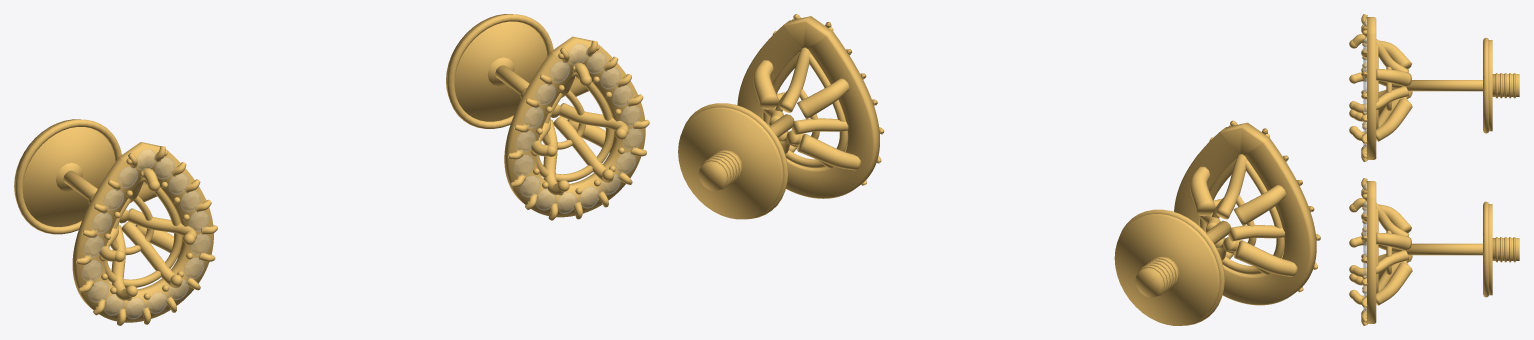
The model's file is Earring_PearCluster.glb.
The picture shows the model from 3 angles, left to right: view 1: azimuth 30°, elevation 25°; view 2: azimuth 150°, elevation 25°; view 3: azimuth 270°, elevation 25°; orthographic projection. The views are drawn at different scales.
Parts seen in each view (by area): view 1: Halo_Frame, Halo_Frame.001, Attach_Back.001, Attach_Back, Accent_Halo, Accent_Halo.001, Head_Center.001, Head_Center, Attach_Post, Attach_Post.001; view 2: Halo_Frame.001, Halo_Frame, Attach_Back, Attach_Back.001, Head_Center, Head_Center.001; view 3: Halo_Frame.001, Halo_Frame, Head_Center, Head_Center.001, Attach_Back, Attach_Back.001, Attach_Post, Attach_Post.001, Accent_Halo, Accent_Halo.001.
Part boxes in pixels (<box>): Halo_Frame: <box>504,36,649,220</box>; Halo_Frame.001: <box>72,142,217,325</box>; Attach_Back.001: <box>14,119,121,234</box>; Attach_Back: <box>446,14,553,128</box>; Accent_Halo: <box>513,44,642,213</box>; Accent_Halo.001: <box>82,149,210,318</box>; Head_Center.001: <box>99,167,196,300</box>; Head_Center: <box>531,62,628,195</box>; Attach_Post: <box>495,65,561,117</box>; Attach_Post.001: <box>63,170,129,223</box>; Halo_Frame.001: <box>1174,120,1320,305</box>; Halo_Frame: <box>737,14,884,198</box>; Attach_Back: <box>678,103,788,219</box>; Attach_Back.001: <box>1114,209,1224,325</box>; Head_Center: <box>762,47,848,168</box>; Head_Center.001: <box>1199,154,1284,274</box>; Halo_Frame.001: <box>1361,14,1412,161</box>; Halo_Frame: <box>1361,178,1412,325</box>; Head_Center: <box>1349,198,1409,304</box>; Head_Center.001: <box>1349,34,1408,140</box>; Attach_Back: <box>1483,201,1519,297</box>; Attach_Back.001: <box>1483,37,1519,133</box>; Attach_Post: <box>1402,243,1482,255</box>; Attach_Post.001: <box>1402,80,1482,91</box>; Accent_Halo: <box>1363,183,1366,312</box>; Accent_Halo.001: <box>1363,20,1366,148</box>.
Bounding box in the file's own units: 0.0371 × 0.011 × 0.0123.
